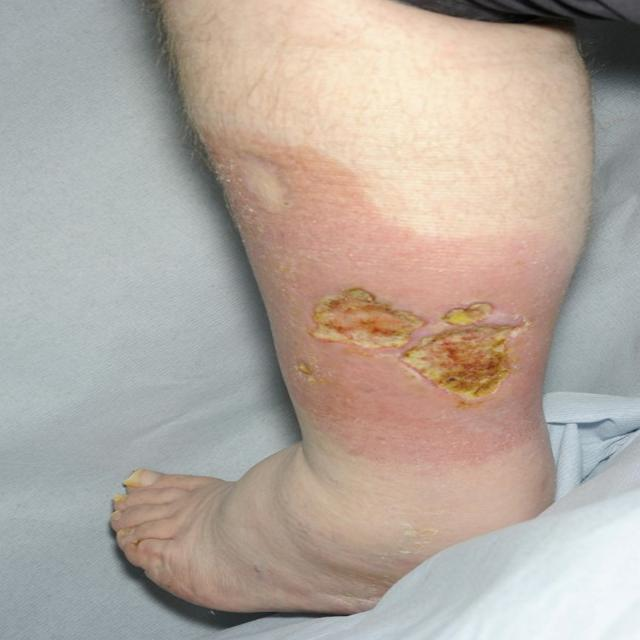wound: (305, 286, 530, 406)
